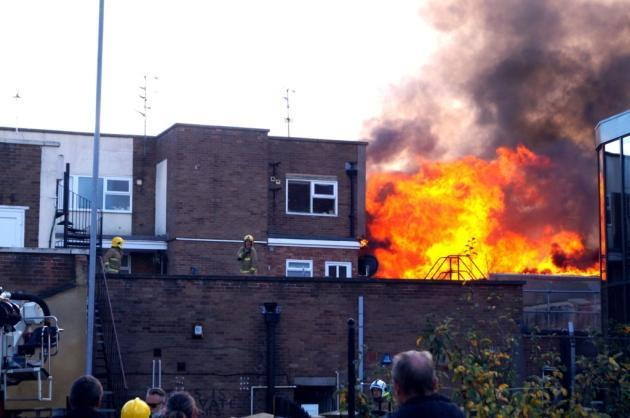fire: (360, 156, 608, 283)
